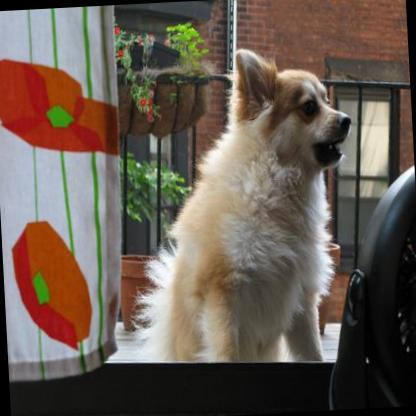Pomeranian: (112, 40, 364, 367)
